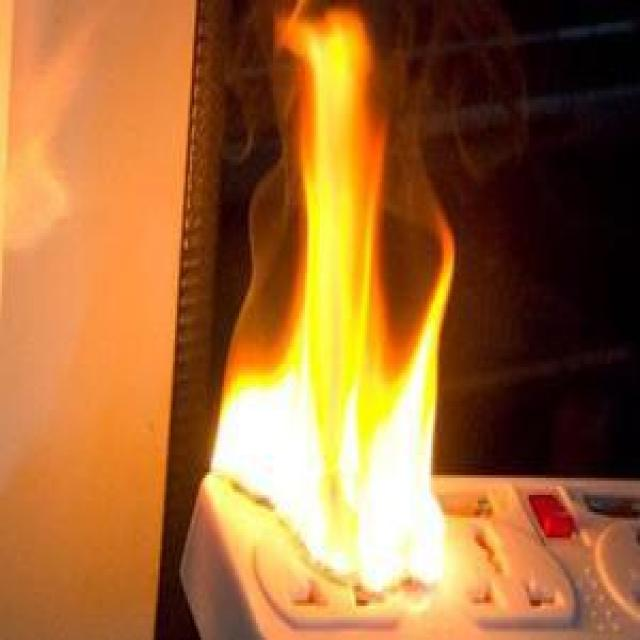fire: (202, 3, 491, 589)
other: (534, 475, 578, 546)
